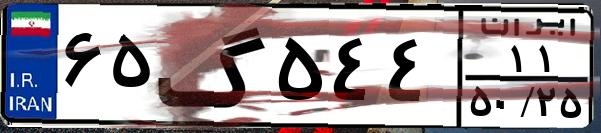0: (495, 70, 520, 125)
1: (537, 27, 568, 80), (508, 27, 537, 80)
2: (535, 70, 560, 125)
4: (385, 28, 445, 110), (330, 28, 385, 110)
5: (270, 28, 330, 110), (110, 28, 156, 98), (560, 70, 590, 125), (470, 70, 495, 125)
6: (57, 26, 110, 100)
گ: (156, 12, 270, 120)
